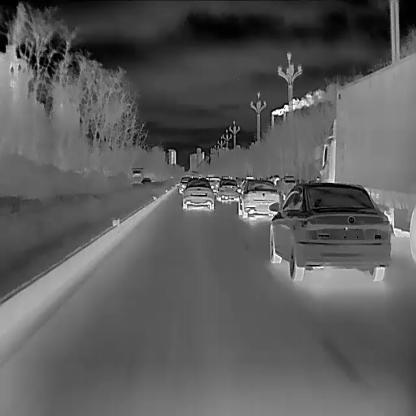car: (268, 182, 390, 282), (237, 178, 280, 219), (181, 178, 214, 210), (213, 178, 238, 200)
truck: (314, 50, 415, 262), (131, 168, 142, 184)
